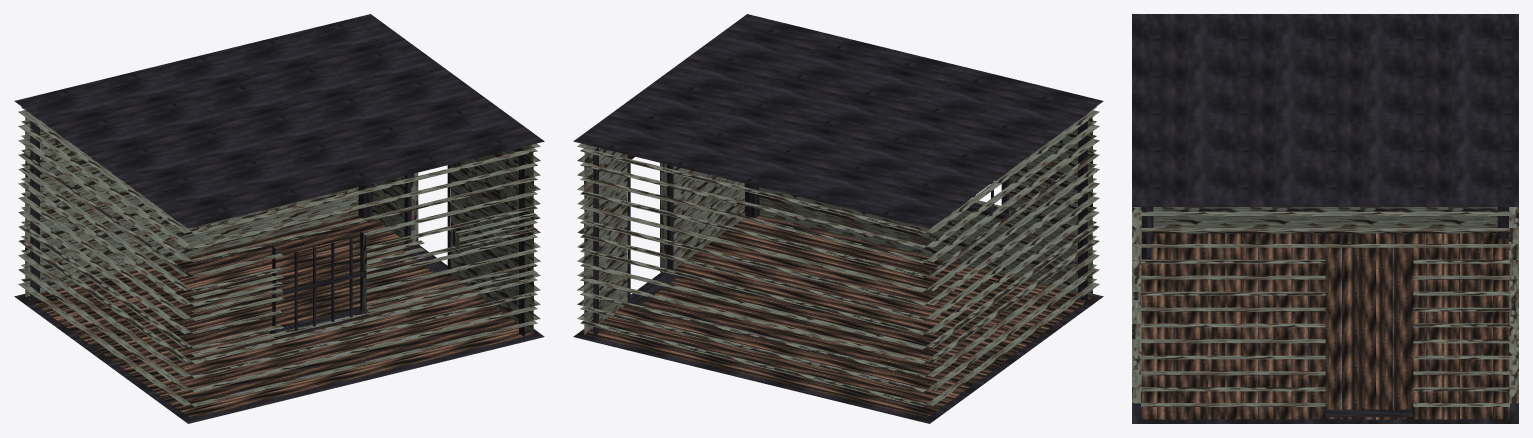
File: ThaiHouse_Interior_u25.glb
3 renders of one model, left to right at view 1: azimuth 30°, elevation 25°; view 2: azimuth 150°, elevation 25°; view 3: azimuth 270°, elevation 25°, orthographic. The views are drawn at different scales.
Parts seen in each view (by area): view 1: M_Dark_Wood, M_Wall_Planks, M_Floor_Planks; view 2: M_Dark_Wood, M_Wall_Planks, M_Floor_Planks; view 3: M_Dark_Wood, M_Floor_Planks, M_Wall_Planks.
Boxes of the visible parts, x1=… form: M_Dark_Wood: x1=14, y1=14, x2=544, y2=423; M_Wall_Planks: x1=18, y1=107, x2=540, y2=406; M_Floor_Planks: x1=25, y1=215, x2=532, y2=418; M_Dark_Wood: x1=573, y1=14, x2=1103, y2=423; M_Wall_Planks: x1=577, y1=107, x2=1099, y2=406; M_Floor_Planks: x1=585, y1=215, x2=1092, y2=418; M_Dark_Wood: x1=1132, y1=14, x2=1518, y2=423; M_Floor_Planks: x1=1141, y1=233, x2=1509, y2=419; M_Wall_Planks: x1=1132, y1=207, x2=1518, y2=406.
Size of the model in its own units: 5.2 by 2.72 by 4.4.
Materials: 3 (3 with a texture image).
